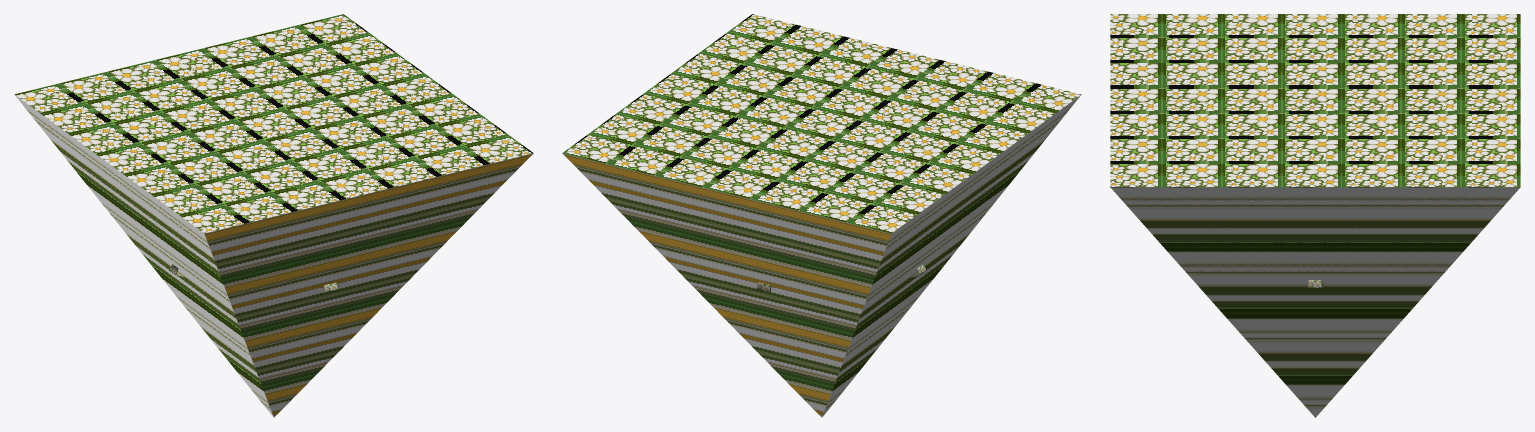
3 views of the same model, side by side, from view 1: azimuth 30°, elevation 25°; view 2: azimuth 150°, elevation 25°; view 3: azimuth 270°, elevation 25° (orthographic). The views are drawn at different scales.
Parts seen in each view (by area): view 1: 3611kg_22_ta0; view 2: 3611kg_22_ta0; view 3: 3611kg_22_ta0.
Boxes of the visible parts, left/top/right/bottom form: 3611kg_22_ta0: left=14, top=14, right=533, bottom=417; 3611kg_22_ta0: left=562, top=14, right=1081, bottom=417; 3611kg_22_ta0: left=1110, top=14, right=1520, bottom=417.
Bounding box in the file's own units: 1.95 × 1.67 × 1.95.
1 material, 1 textured.
